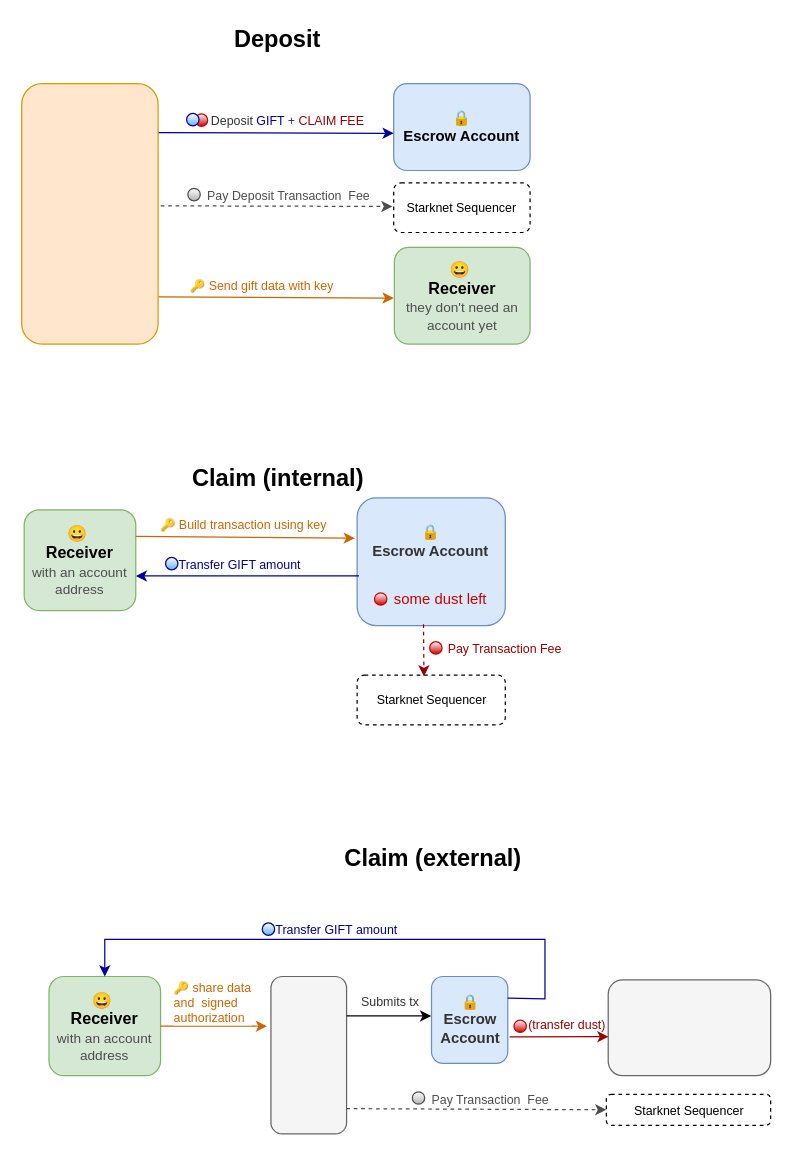
Image size: 802x1156. Some labels were removed from this diagram. The box of each missing label's shape, as (x1, y1, x2, y2) in pixels:
Dust receiver is optional and can be anybody as long as the receiver agrees: (607, 979, 771, 1076)
👷 Relayer anyone: (270, 975, 347, 1134)
🤗 Sender: (20, 82, 158, 344)
